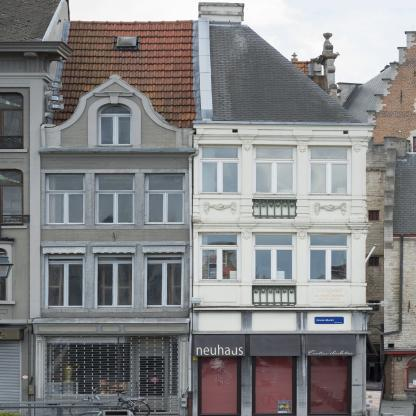Building Outline: (31, 2, 377, 416)
Cornice: (141, 243, 187, 253), (41, 244, 87, 254), (90, 243, 136, 253), (93, 91, 135, 97)
Deco: (203, 201, 237, 215), (314, 202, 347, 216), (313, 289, 345, 302)
Door: (134, 351, 169, 411)
Facade: (40, 123, 366, 416)
Floor: (192, 222, 366, 308), (40, 235, 190, 323), (40, 162, 190, 235)
Floor Slab: (192, 302, 366, 308), (192, 217, 366, 223), (40, 317, 190, 323), (40, 230, 190, 235), (40, 157, 190, 162)
Glass Wall: (44, 336, 132, 395)
Ground Floor: (192, 308, 366, 415), (40, 323, 190, 416)
Pillar: (291, 222, 314, 283), (346, 223, 369, 283), (236, 222, 259, 282), (293, 135, 313, 196), (348, 136, 367, 196), (238, 135, 257, 195), (193, 135, 203, 195), (193, 224, 202, 282)
Roof: (45, 20, 362, 128)
Shop: (309, 356, 352, 416), (198, 356, 241, 416), (253, 356, 296, 416), (195, 334, 246, 356), (305, 334, 356, 356), (315, 317, 343, 324)
Top Floor: (192, 126, 366, 223), (80, 97, 148, 157)
Window: (252, 231, 297, 283), (308, 232, 351, 283), (199, 144, 242, 195), (253, 145, 296, 196), (308, 145, 351, 196), (198, 232, 241, 282), (45, 173, 85, 225), (95, 173, 135, 225), (145, 173, 184, 225), (49, 254, 83, 308), (98, 253, 132, 307), (147, 253, 181, 307), (96, 103, 133, 147), (134, 336, 169, 351)
dont: (0, 385, 151, 416), (44, 80, 64, 117)
